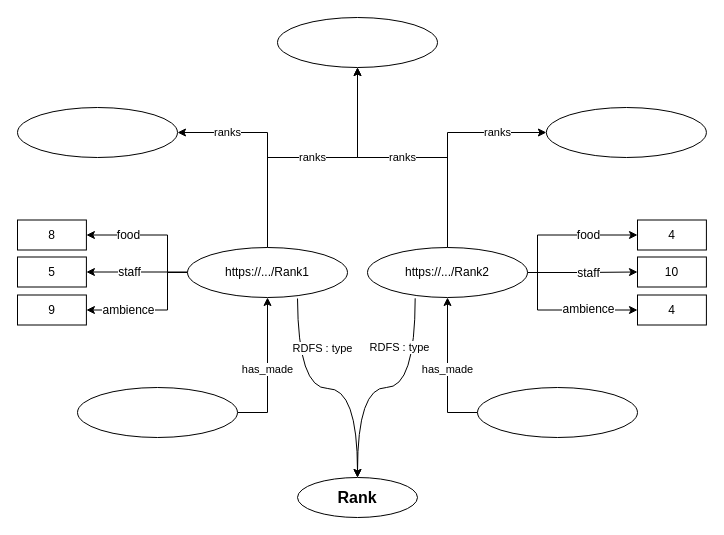
This 724x535 diagram has some shape labels left out. The shapes that lost their labels are listed below. From the top down, each one's centre as x and y in pixels, then its label:
pixel 357 42: https://.../Le_Cygne
pixel 97 132: https://.../Reservation1
pixel 625 132: https://.../Reservation2
pixel 157 412: https://.../Jean
pixel 557 412: https://.../Marc
